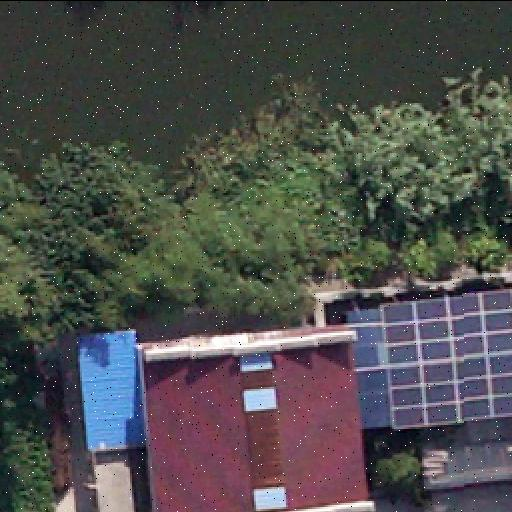solar-panel: (380, 287, 512, 425)
